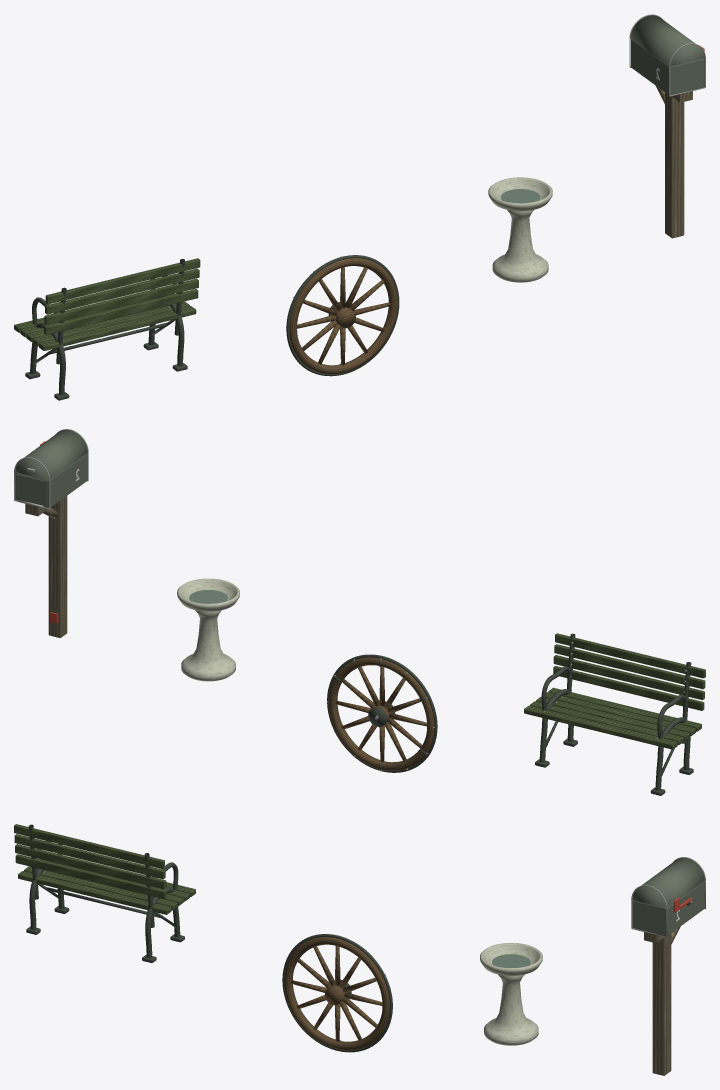
File: beverly-home-props.glb
3 views of the same model, one above another, from view 1: azimuth 30°, elevation 25°; view 2: azimuth 150°, elevation 25°; view 3: azimuth 330°, elevation 25° (orthographic). The views are drawn at different scales.
Parts seen in each view (by area): view 1: Home_Bench_Mesh, Home_Mailbox_Mesh, Home_WagonWheel_Mesh, Home_Birdbath_Mesh; view 2: Home_Bench_Mesh, Home_Mailbox_Mesh, Home_WagonWheel_Mesh, Home_Birdbath_Mesh; view 3: Home_Bench_Mesh, Home_Mailbox_Mesh, Home_WagonWheel_Mesh, Home_Birdbath_Mesh.
Part boxes in pixels (x1,y1,x2,y2): Home_Bench_Mesh: (14, 258, 200, 400); Home_Mailbox_Mesh: (629, 14, 705, 238); Home_WagonWheel_Mesh: (286, 255, 399, 376); Home_Birdbath_Mesh: (488, 177, 552, 282); Home_Bench_Mesh: (524, 633, 705, 795); Home_Mailbox_Mesh: (14, 429, 88, 637); Home_WagonWheel_Mesh: (327, 654, 437, 772); Home_Birdbath_Mesh: (177, 578, 239, 681); Home_Bench_Mesh: (14, 824, 195, 962); Home_Mailbox_Mesh: (631, 857, 705, 1075); Home_WagonWheel_Mesh: (282, 934, 392, 1052); Home_Birdbath_Mesh: (480, 943, 542, 1045).
Bounding box in the file's own units: 5.63 × 2.09 × 0.6888.
10 materials, 4 textured.
